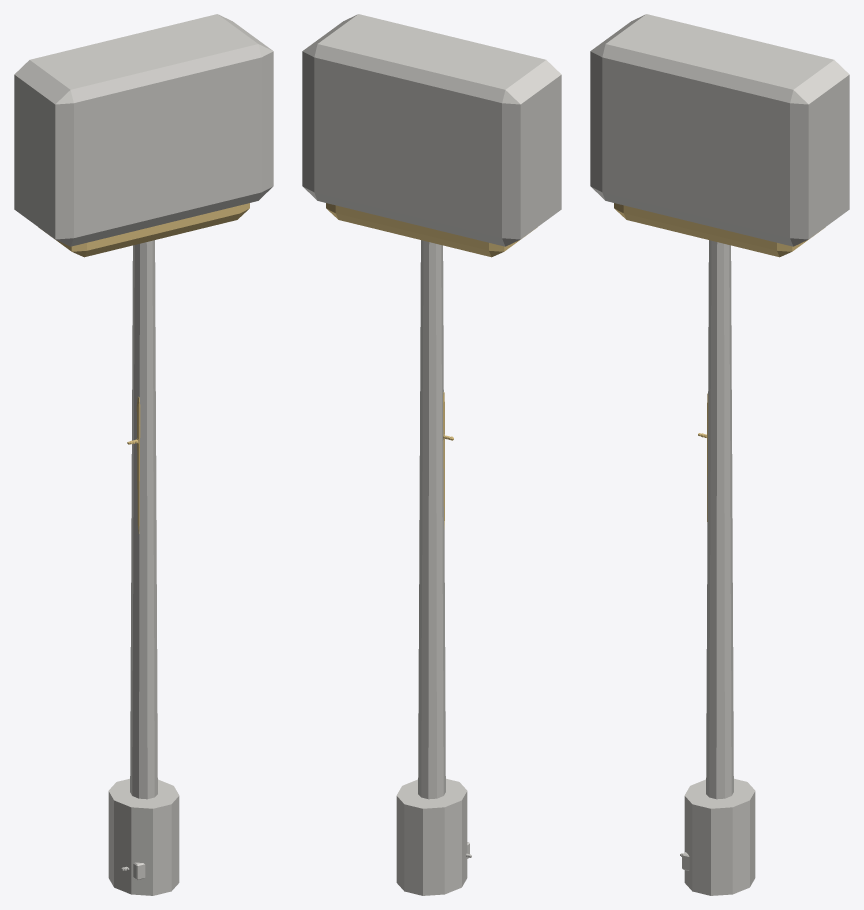
The model's file is b18_double_face_sidewalk_clock.glb.
3 renders of one model, left to right at view 1: azimuth 30°, elevation 25°; view 2: azimuth 150°, elevation 25°; view 3: azimuth 330°, elevation 25°, orthographic.
Visible parts, largest first — view 1: b18_double_face_sidewalk_clock; view 2: b18_double_face_sidewalk_clock; view 3: b18_double_face_sidewalk_clock.
Part boxes in pixels (left/top/right/bottom): b18_double_face_sidewalk_clock: left=14, top=14, right=273, bottom=895; b18_double_face_sidewalk_clock: left=302, top=14, right=561, bottom=895; b18_double_face_sidewalk_clock: left=590, top=14, right=849, bottom=895.
Size of the model in its own units: 1.08 by 3.92 by 0.408.
